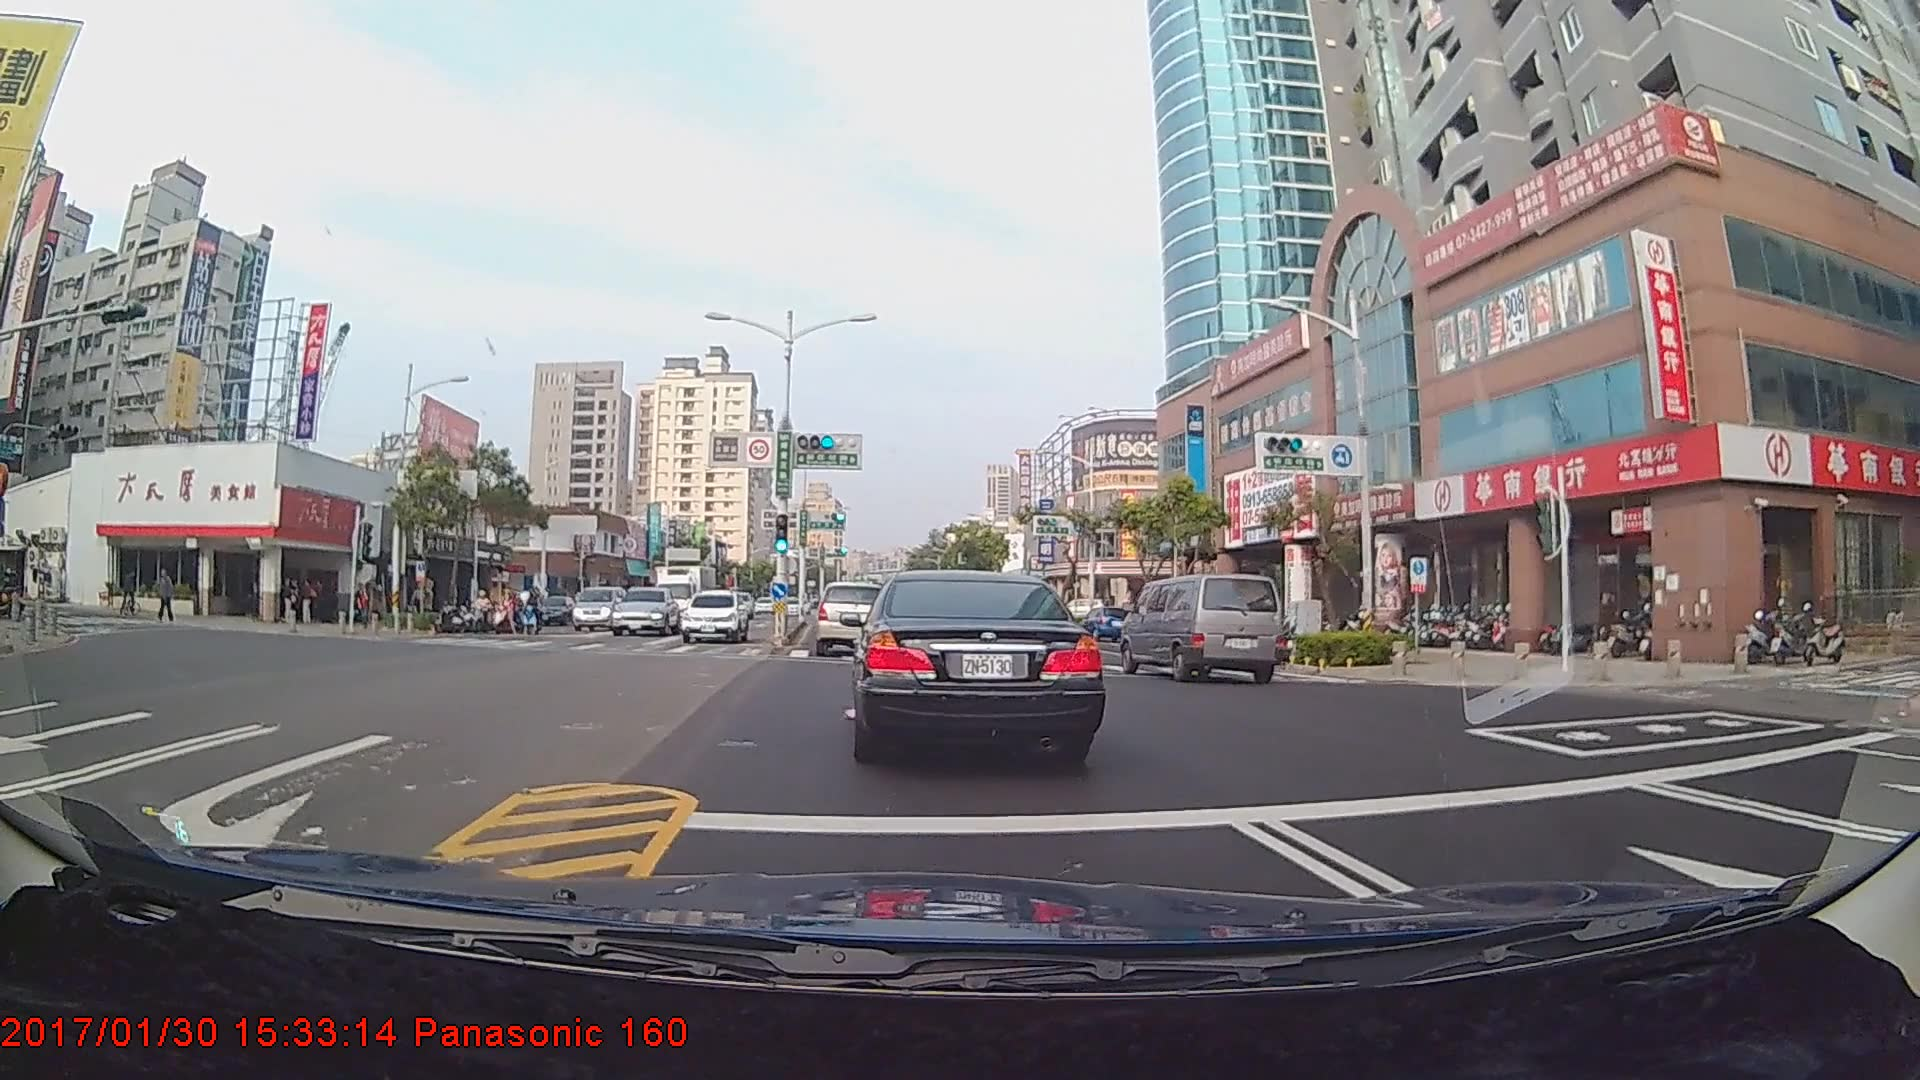pedestrian: (154, 570, 176, 623), (298, 578, 318, 626), (282, 577, 302, 627)
vehicle: (851, 566, 1095, 763), (1124, 573, 1284, 682), (815, 579, 892, 656), (657, 559, 724, 631), (678, 590, 748, 644), (610, 586, 680, 637), (569, 583, 624, 630), (1074, 603, 1126, 643)
